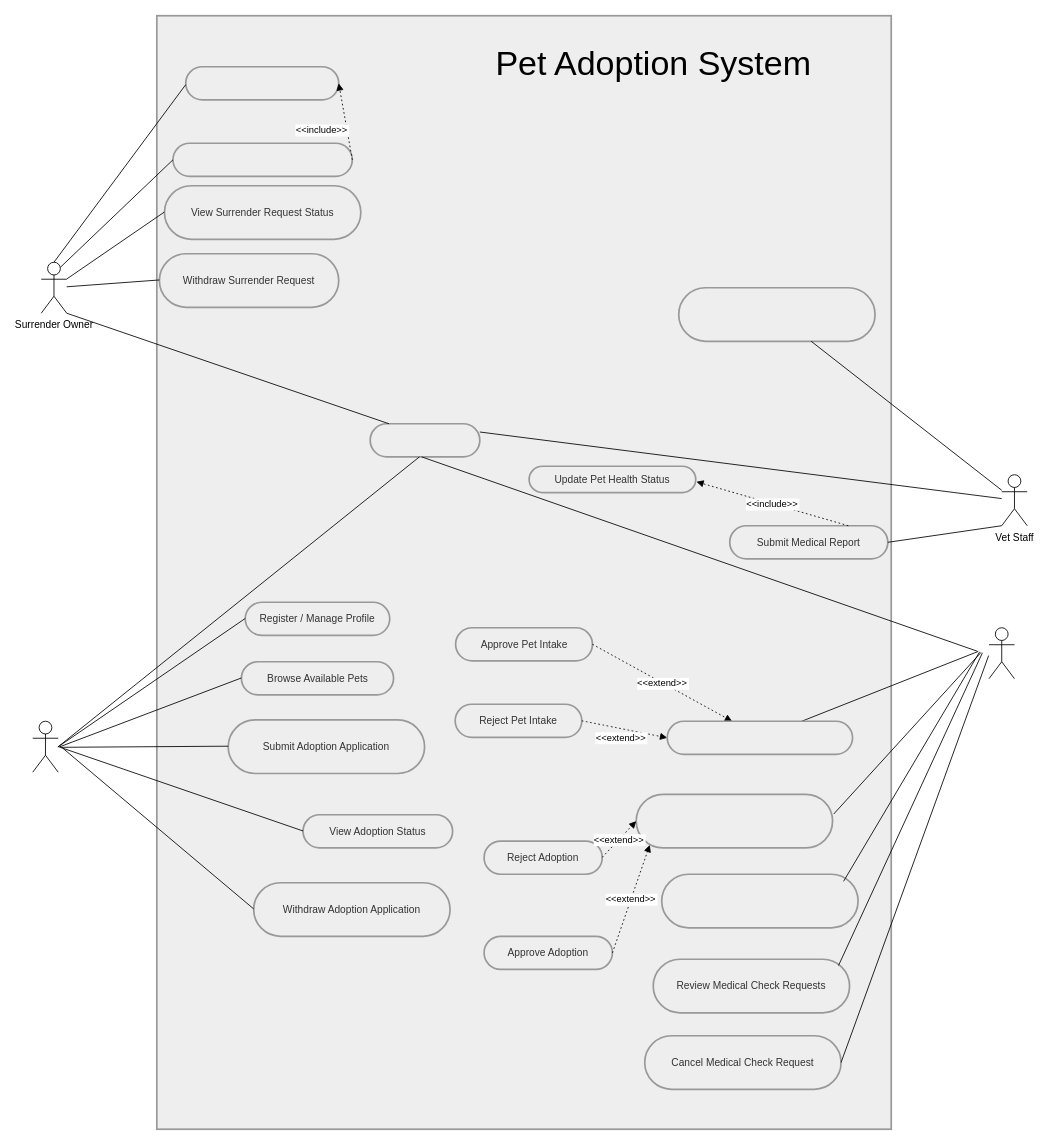
Some shapes in this 1048 by 1144 pixel diagram are drawn without their labels. The centre of each missing label's shape, as x and y in pixels:
"Adopter" goes at [45,746].
"Enter Pet Information" goes at [261,82].
"Login / Logout" goes at [424,439].
"Review Adoption Applications" goes at [734,820].
"Review Surrender Requests" goes at [759,737].
"Send Medical Check Request" goes at [759,900].
"Shelter Amdin" goes at [1001,653].
"Submit Surrender Request" goes at [262,159].
"View Medical Check Requests" goes at [776,314].
